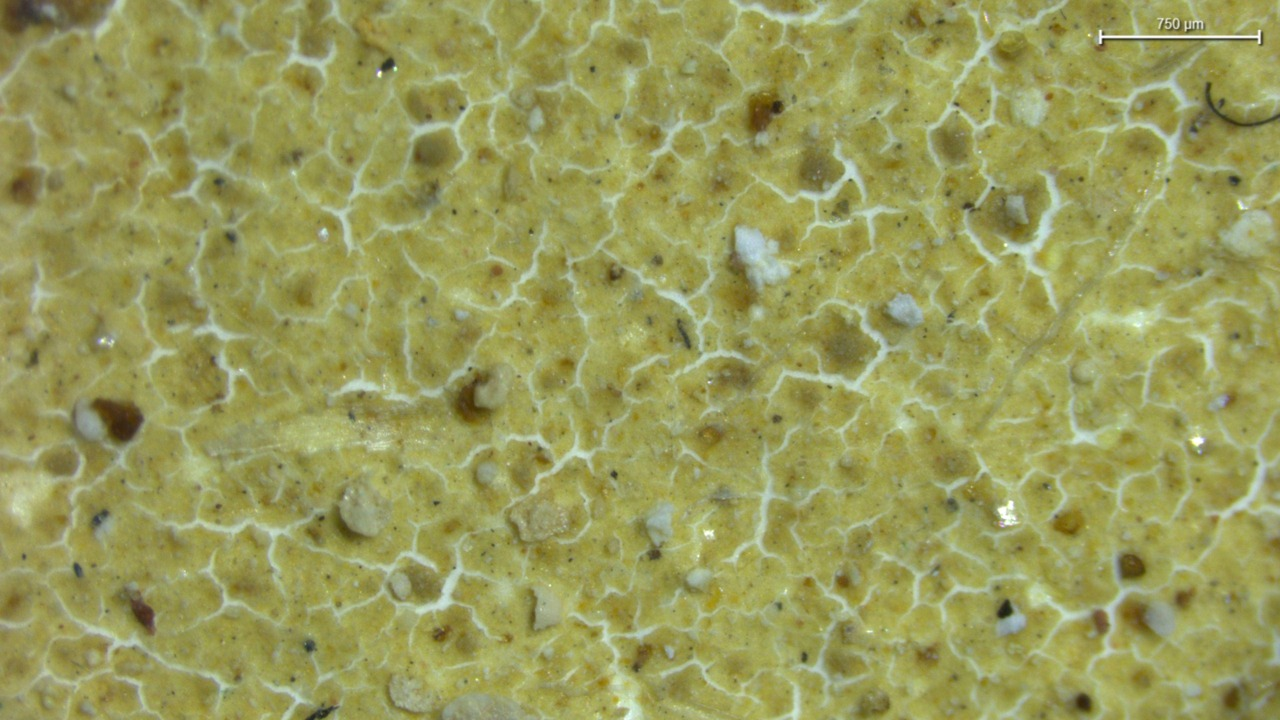microplastic_fragment: (734, 225, 789, 291), (337, 479, 390, 537), (388, 674, 440, 713), (884, 293, 924, 328), (73, 401, 106, 441), (535, 588, 560, 609)
